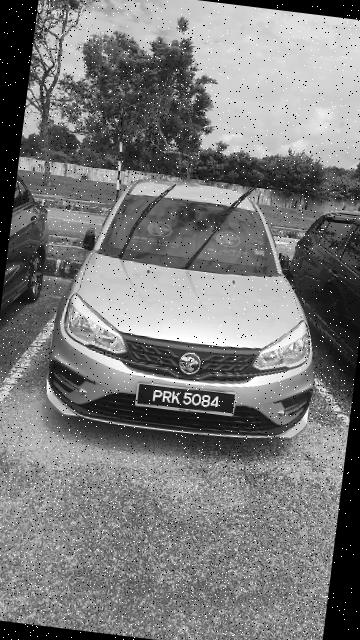License_Plate: (132, 378, 240, 421)
car: (41, 163, 341, 451)
